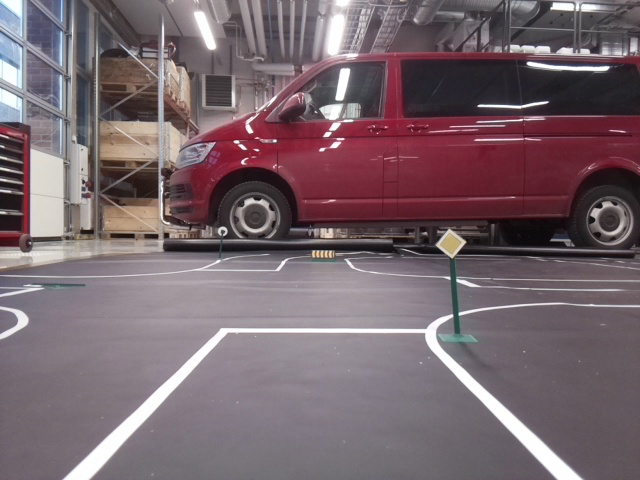Priority: (434, 229, 467, 258)
